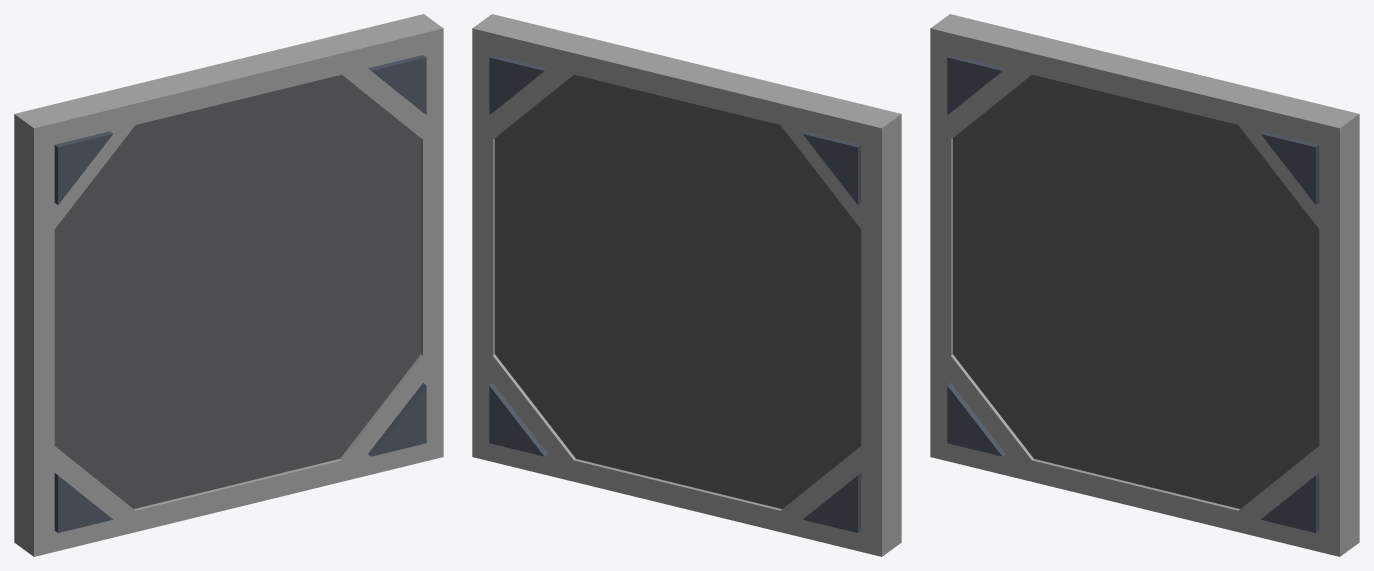
Rendered from Wall.fbx.
The picture shows the model from 3 angles, left to right: view 1: azimuth 30°, elevation 25°; view 2: azimuth 150°, elevation 25°; view 3: azimuth 330°, elevation 25°; orthographic projection.
Parts seen in each view (by area): view 1: pCube2, pCube1; view 2: pCube2, pCube1; view 3: pCube2, pCube1.
Part boxes in pixels (x1,y1,x2,y2): pCube2: (54,74,420,508); pCube1: (14,14,443,556); pCube2: (495,74,861,508); pCube1: (472,14,901,556); pCube2: (953,74,1319,508); pCube1: (930,14,1359,556).
Bounding box in the file's own units: 600 × 600 × 68.16.
